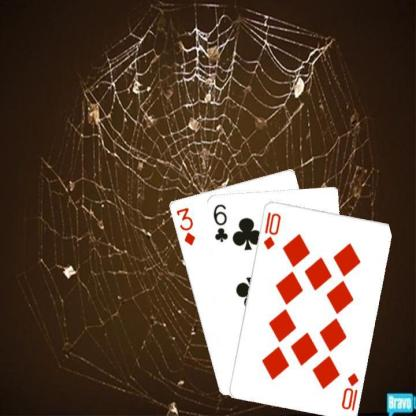10D: (339, 370, 360, 412), (261, 209, 282, 250)
3D: (173, 204, 196, 247)
6C: (210, 201, 229, 243)
